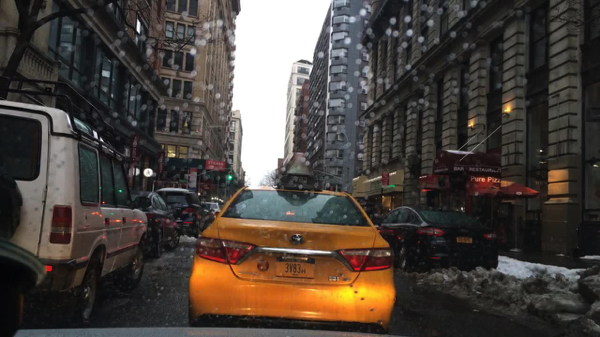car: (0, 74, 150, 328), (189, 174, 396, 334), (371, 204, 499, 276), (130, 189, 181, 259), (154, 186, 207, 240), (199, 200, 214, 231), (204, 200, 220, 220)
traffic light: (227, 172, 232, 181)
